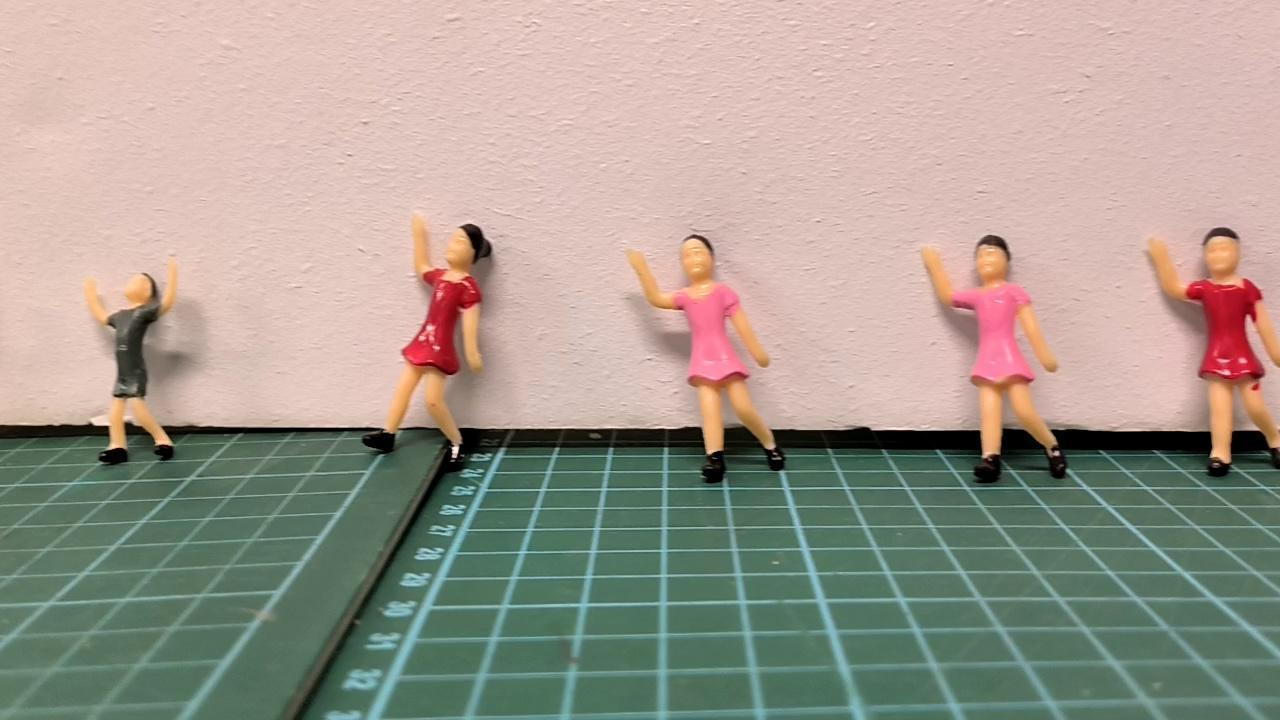human: (615, 220, 786, 488), (910, 223, 1076, 490), (357, 206, 494, 483), (1139, 222, 1280, 478), (80, 247, 193, 470)
